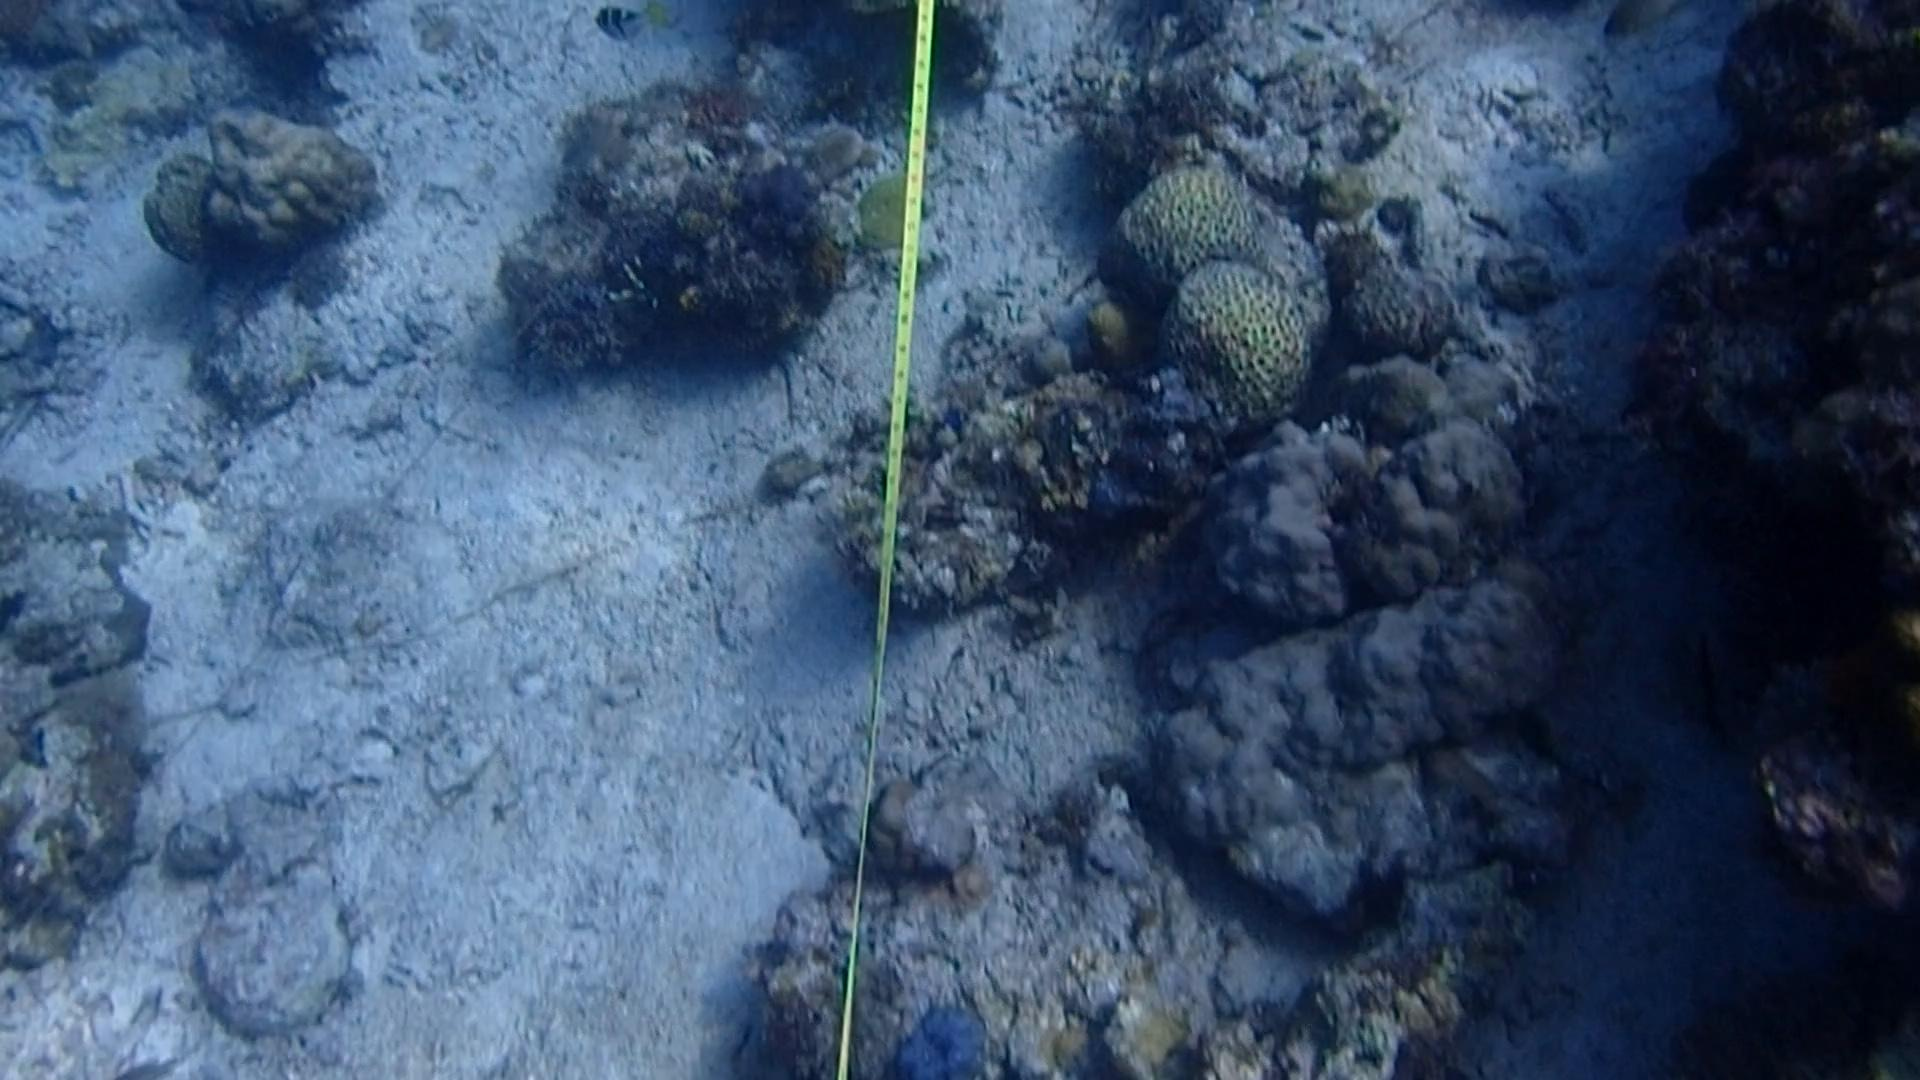Light Fish: (115, 1043, 193, 1080)
Striped Fish: (585, 5, 670, 47)
